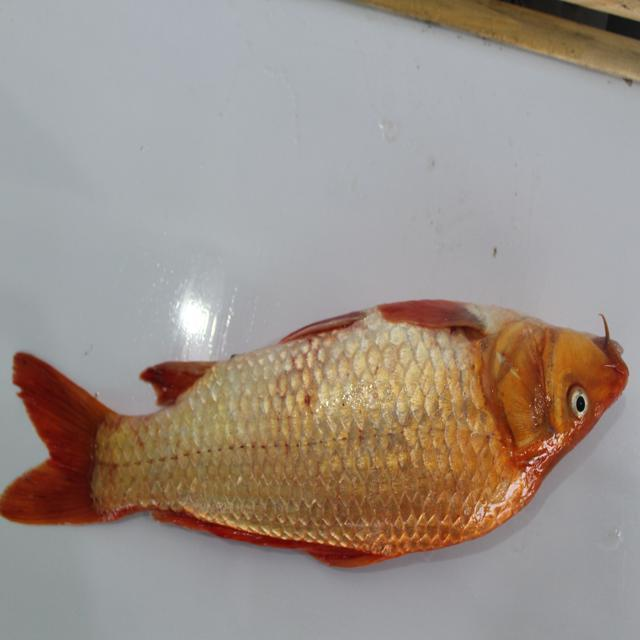Gold Fish: (2, 301, 634, 577)
